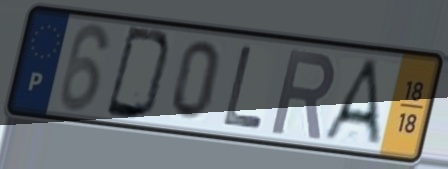0: (167, 39, 225, 125)
6: (56, 21, 115, 116)
A: (319, 55, 383, 149)
D: (102, 24, 175, 124)
L: (219, 43, 267, 133)
R: (268, 45, 339, 142)
